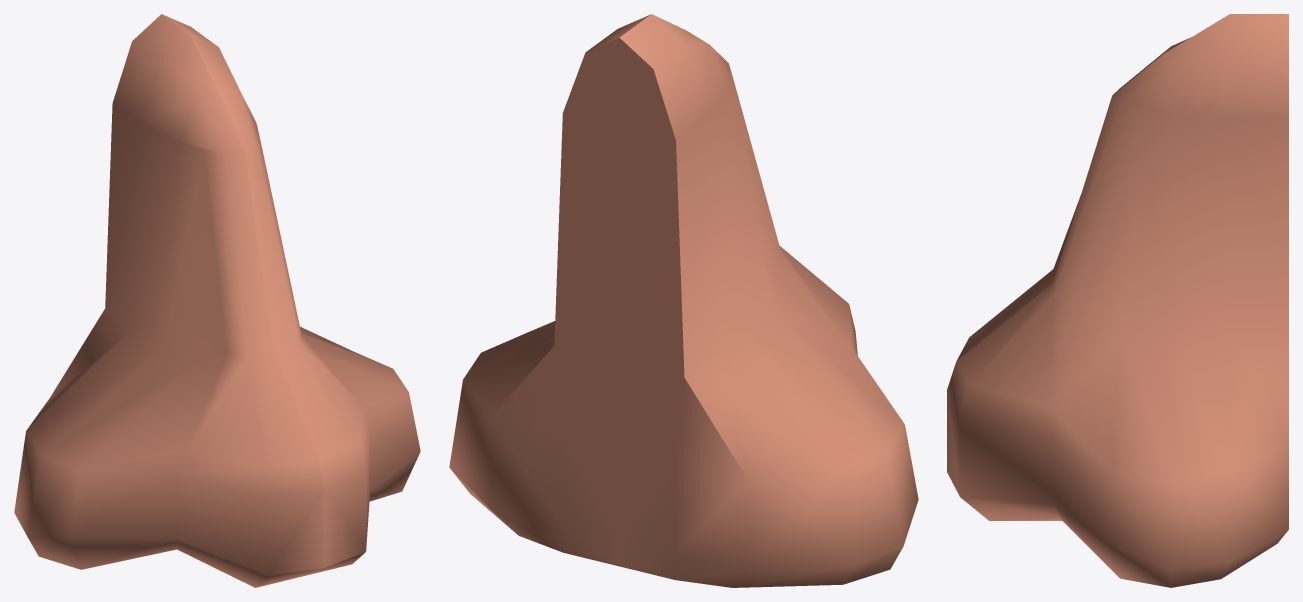
File: DJ_Nose.fbx
3 views of the same model, side by side, from view 1: azimuth 30°, elevation 25°; view 2: azimuth 150°, elevation 25°; view 3: azimuth 270°, elevation 25° (orthographic). The views are drawn at different scales.
Parts seen in each view (by area): view 1: Cube; view 2: Cube; view 3: Cube.
Part boxes in pixels (<box>): Cube: <box>14,14,420,587</box>; Cube: <box>449,14,918,587</box>; Cube: <box>947,14,1288,587</box>.
Size of the model in its own units: 393 by 452 by 290.
